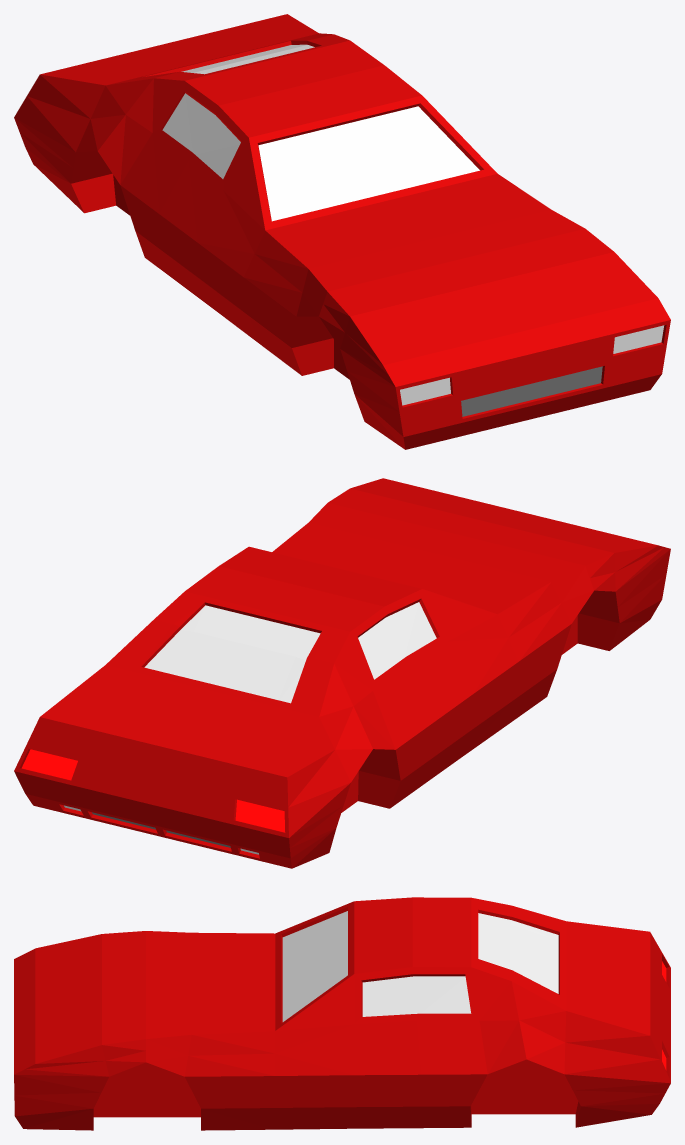
The model's file is car_FBX.fbx.
3 renders of one model, top to bottom at view 1: azimuth 30°, elevation 25°; view 2: azimuth 150°, elevation 25°; view 3: azimuth 270°, elevation 25°, orthographic. The views are drawn at different scales.
Visible parts, largest first — view 1: car; view 2: car; view 3: car.
Part boxes in pixels (left/top/right/bottom): car: left=14, top=14, right=670, bottom=449; car: left=14, top=478, right=670, bottom=868; car: left=14, top=897, right=670, bottom=1130.
Bounding box in the file's own units: 191 × 113 × 459.
